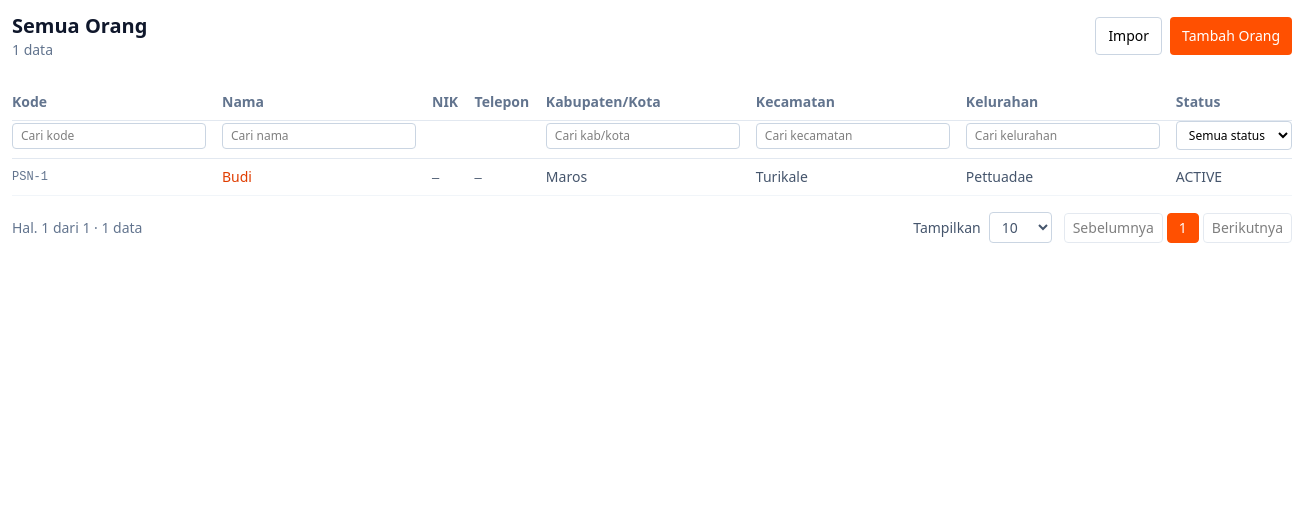
PeoplePage header filters › uses the shared import panel instead of the legacy inline form
Click the button "Impor". click: (1129, 36)
box: [1095, 17, 1162, 55]
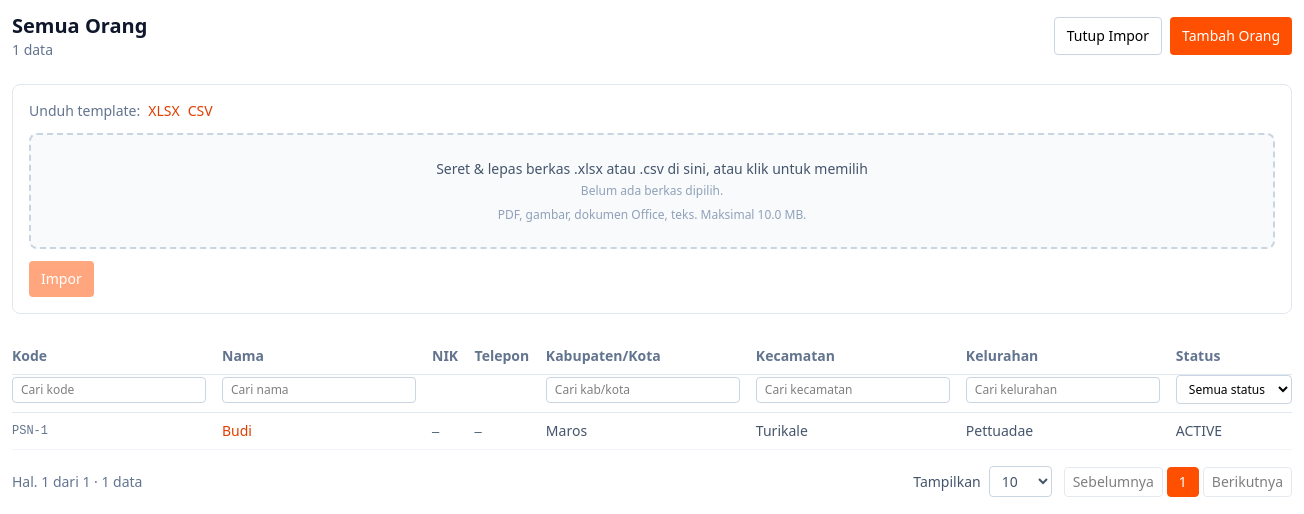
Check: the text "Unduh template:" is shown, box [29, 101, 140, 121]
Check: the text "Tutup Impor" is shown, box [1054, 17, 1162, 55]
